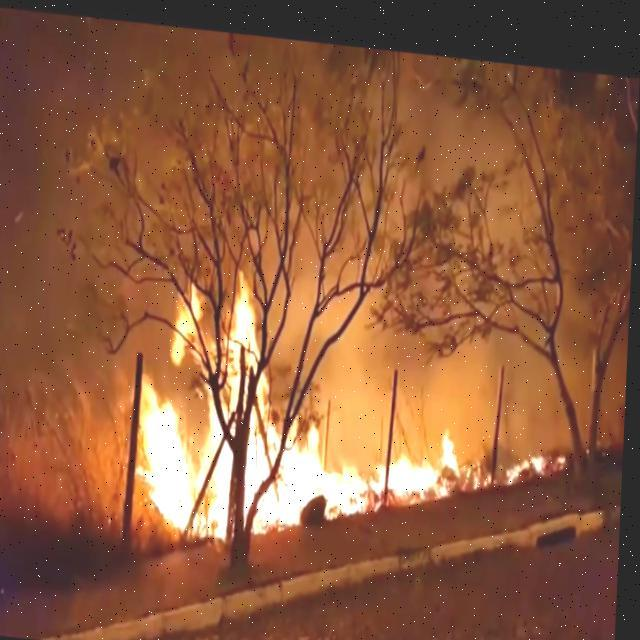Fire: (130, 252, 484, 544), (508, 437, 547, 475)
